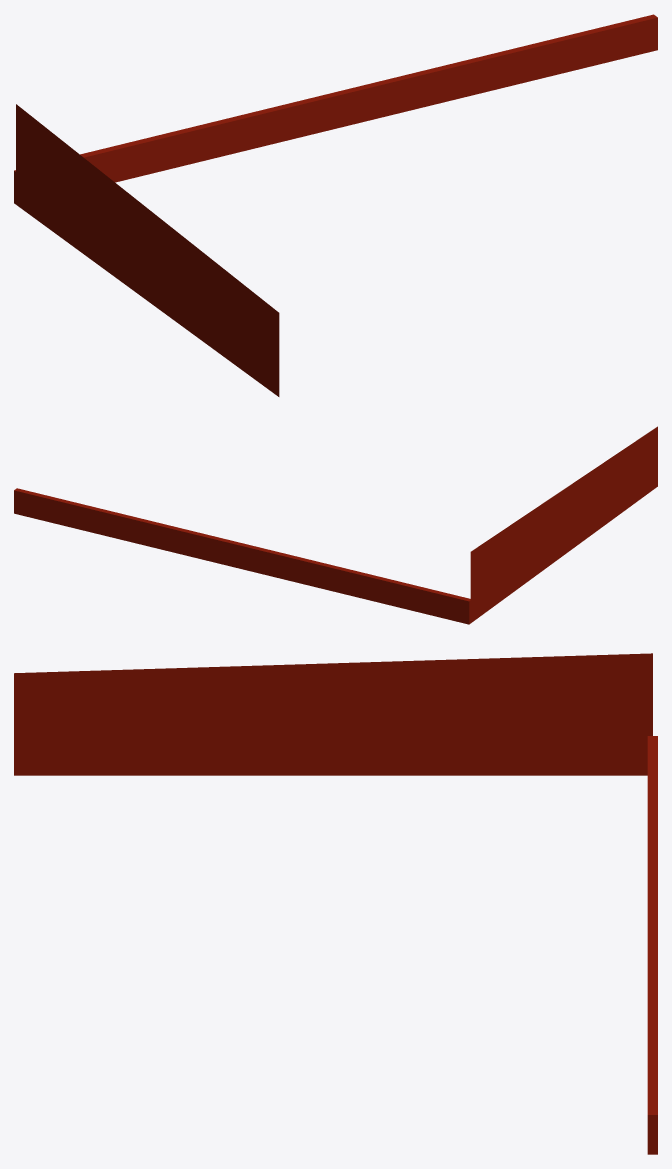
Rendered from Wall 1.fbx.
The picture shows the model from 3 angles, top to bottom: view 1: azimuth 30°, elevation 25°; view 2: azimuth 150°, elevation 25°; view 3: azimuth 270°, elevation 25°; orthographic projection. The views are drawn at different scales.
Visible parts, largest first — view 1: Wall; view 2: Wall; view 3: Wall.
Part boxes in pixels (box(x1,y1,x2,y2)): Wall: box(14, 14, 657, 396); Wall: box(14, 426, 657, 624); Wall: box(14, 653, 657, 1154).
Size of the model in its own units: 905 by 136 by 650.
